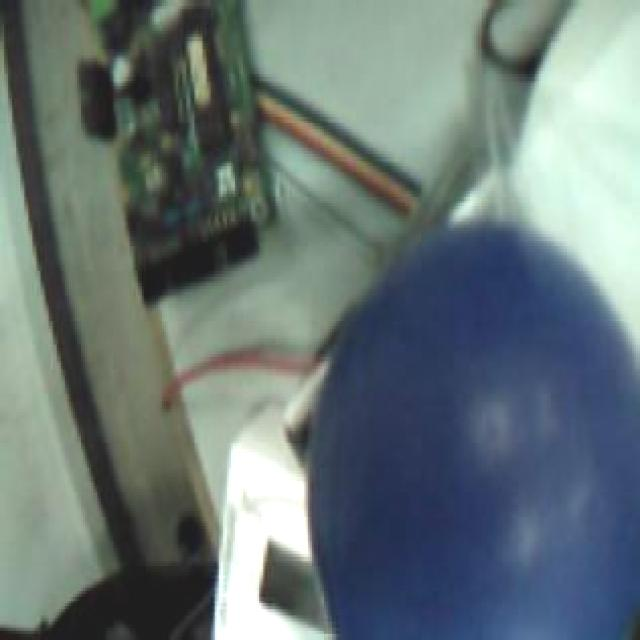BallPurple: (308, 221, 640, 640)
